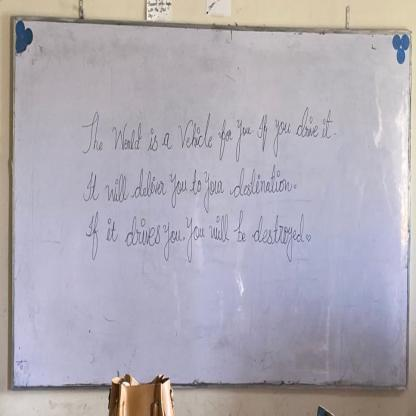Handwritten text: (78, 90, 334, 163), (75, 207, 306, 277), (81, 161, 295, 217)
Whiteboard: (5, 13, 415, 398)
